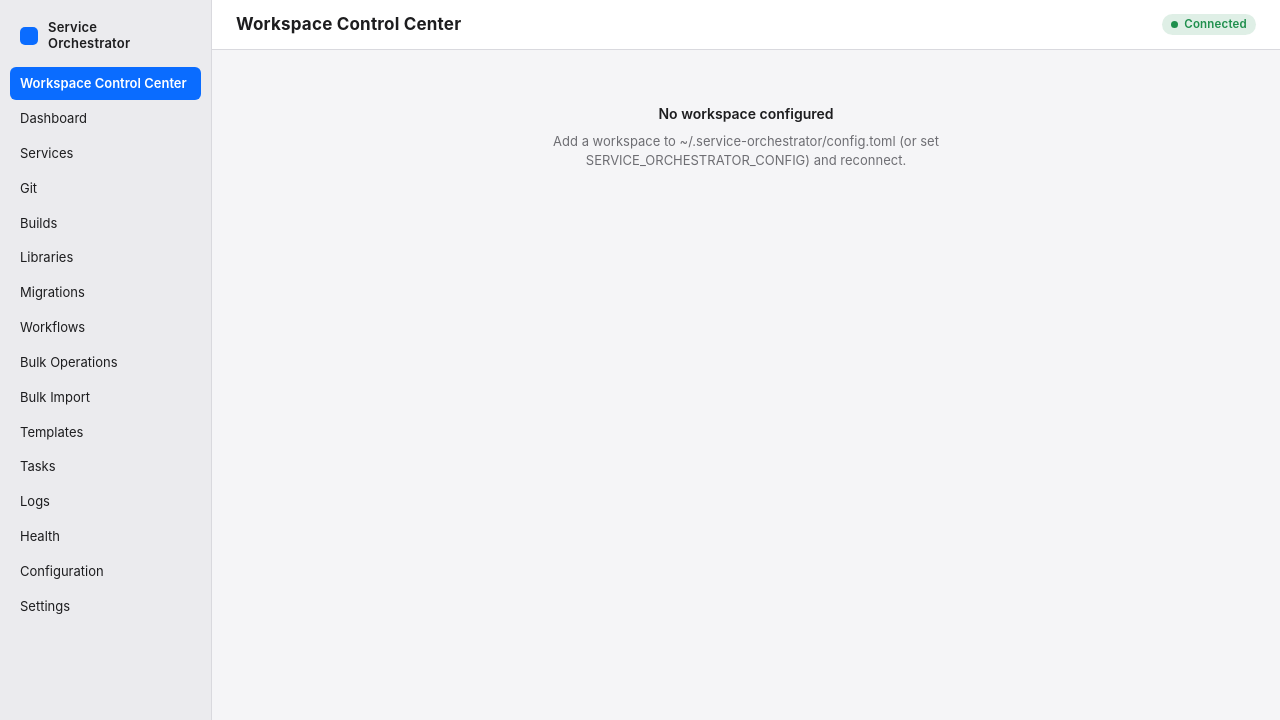
dashboard › shows an empty state when no workspace is configured
What coordinates should you click on to do the following:
click the button "Dashboard"
I would click on:
 (106, 118)
Its box is x1=10 y1=102 x2=201 y2=135.
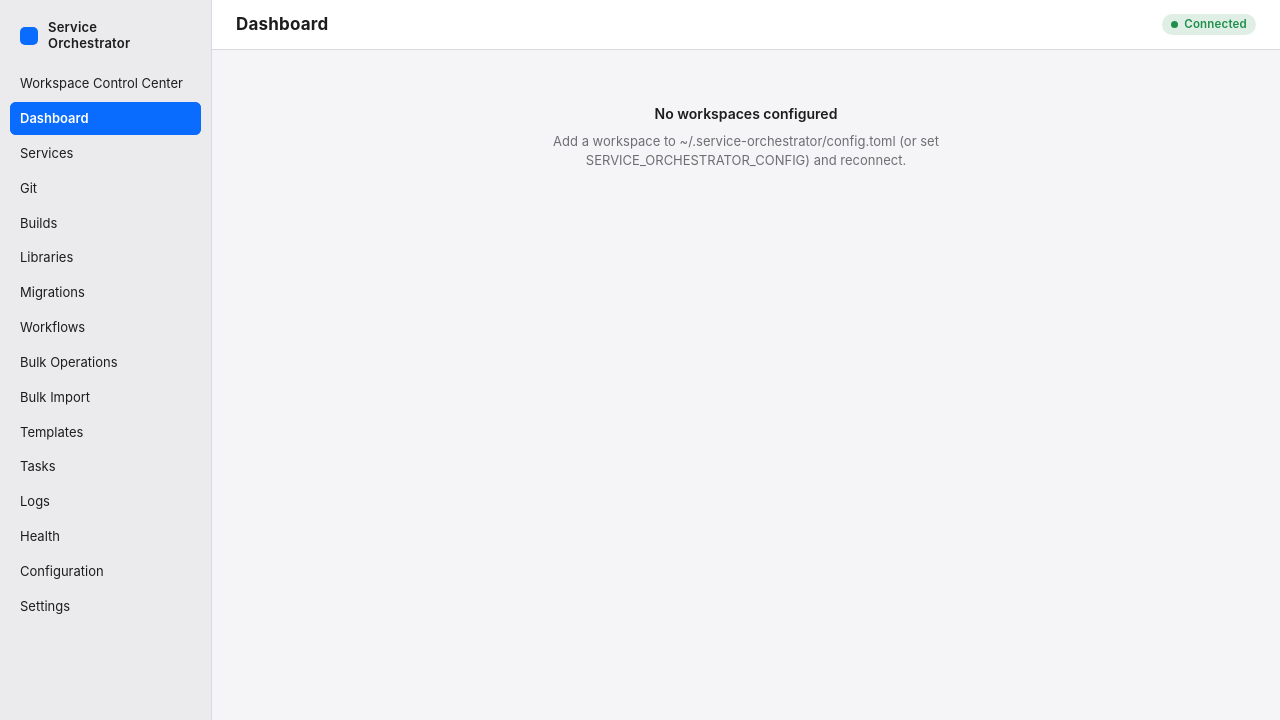
Result: the text "No workspaces configured" is shown at x1=655 y1=104 x2=837 y2=124
